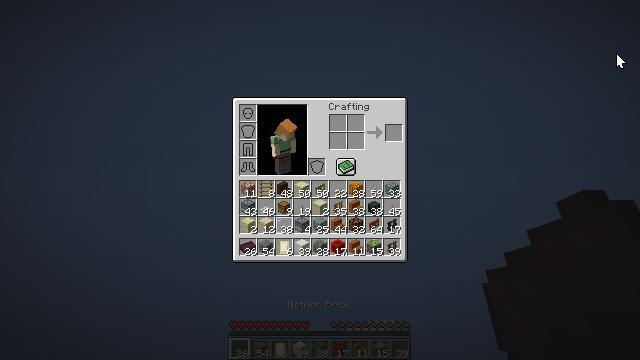cursor: (616, 53, 626, 69)
